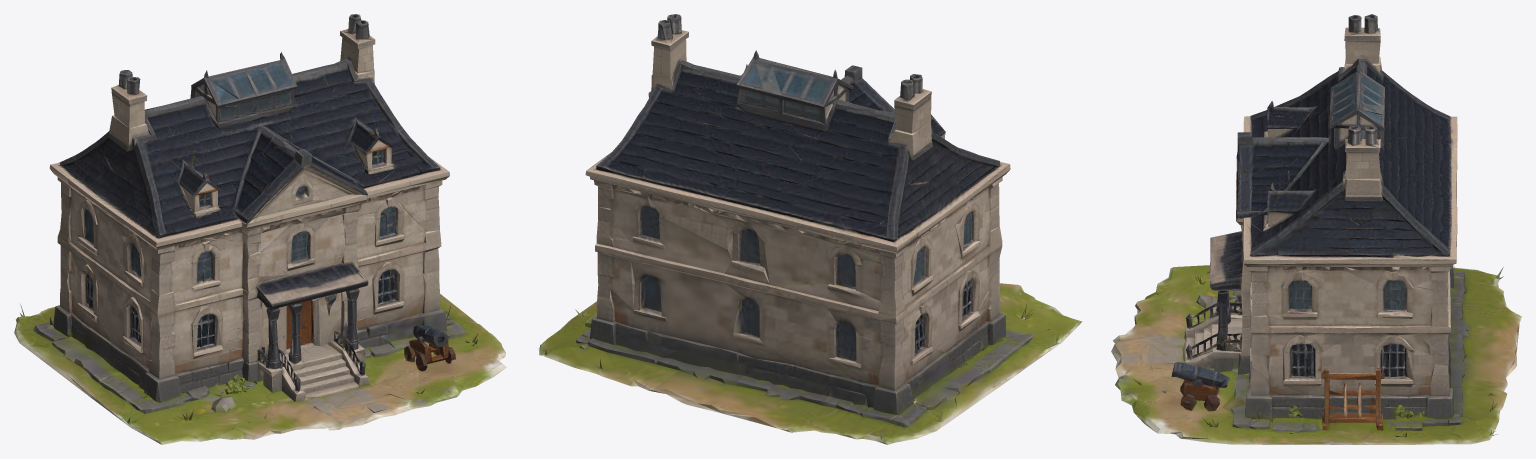
Rendered from academy.glb.
3 views of the same model, side by side, from view 1: azimuth 30°, elevation 25°; view 2: azimuth 150°, elevation 25°; view 3: azimuth 270°, elevation 25° (orthographic). The views are drawn at different scales.
Size of the model in its own units: 1.9 by 1.4 by 1.84.
Materials: 1 (1 with a texture image).
